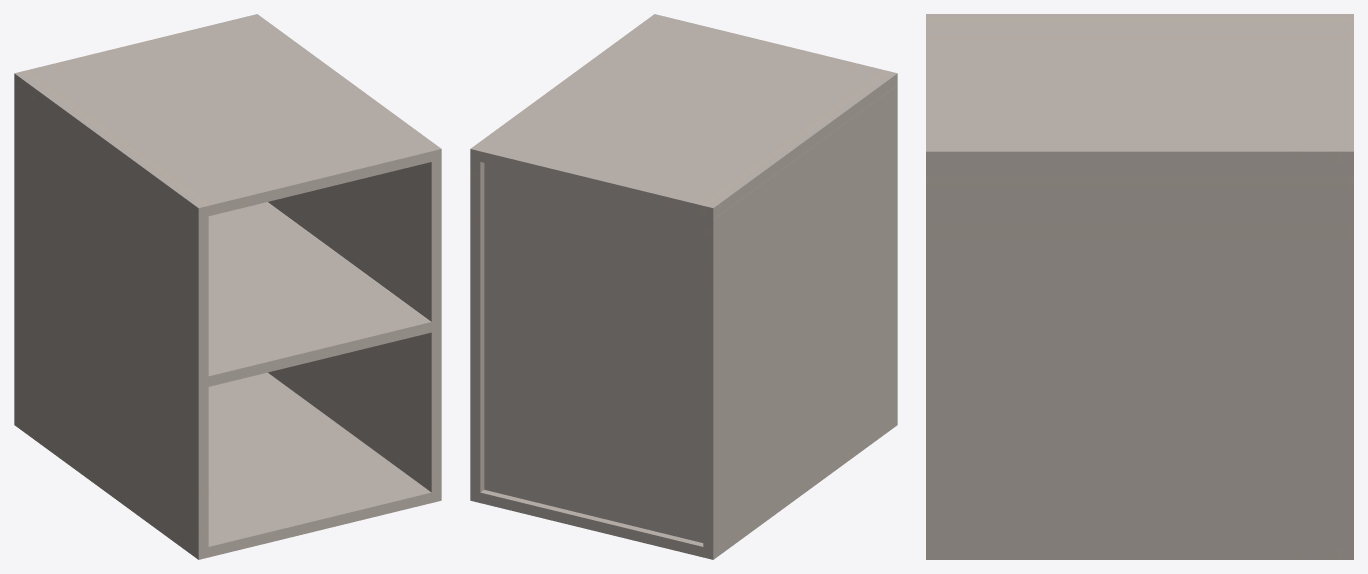
The picture shows the model from 3 angles, left to right: view 1: azimuth 30°, elevation 25°; view 2: azimuth 150°, elevation 25°; view 3: azimuth 270°, elevation 25°; orthographic projection. The views are drawn at different scales.
Visible parts, largest first — view 1: Object_17.001; view 2: Object_17.001; view 3: Object_17.001.
Part boxes in pixels (left/top/right/bottom): Object_17.001: left=14, top=14, right=441, bottom=559; Object_17.001: left=470, top=14, right=897, bottom=559; Object_17.001: left=926, top=14, right=1353, bottom=559.
Bounding box in the file's own units: 0.434 × 0.6 × 0.57.
1 material, 1 textured.
